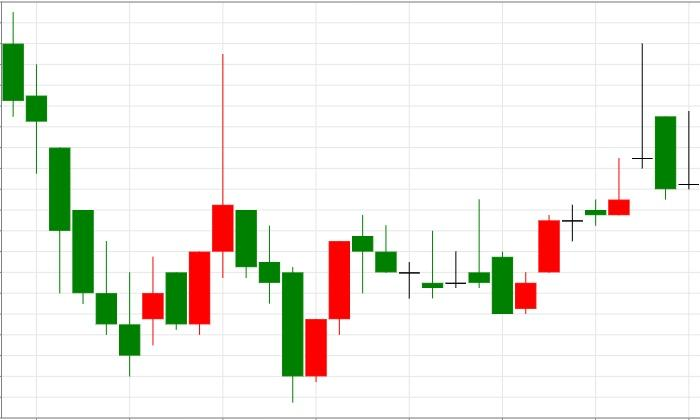inverse_hammer_rise: (3, 12, 141, 377)
shooting_star_fall: (514, 157, 631, 314)
